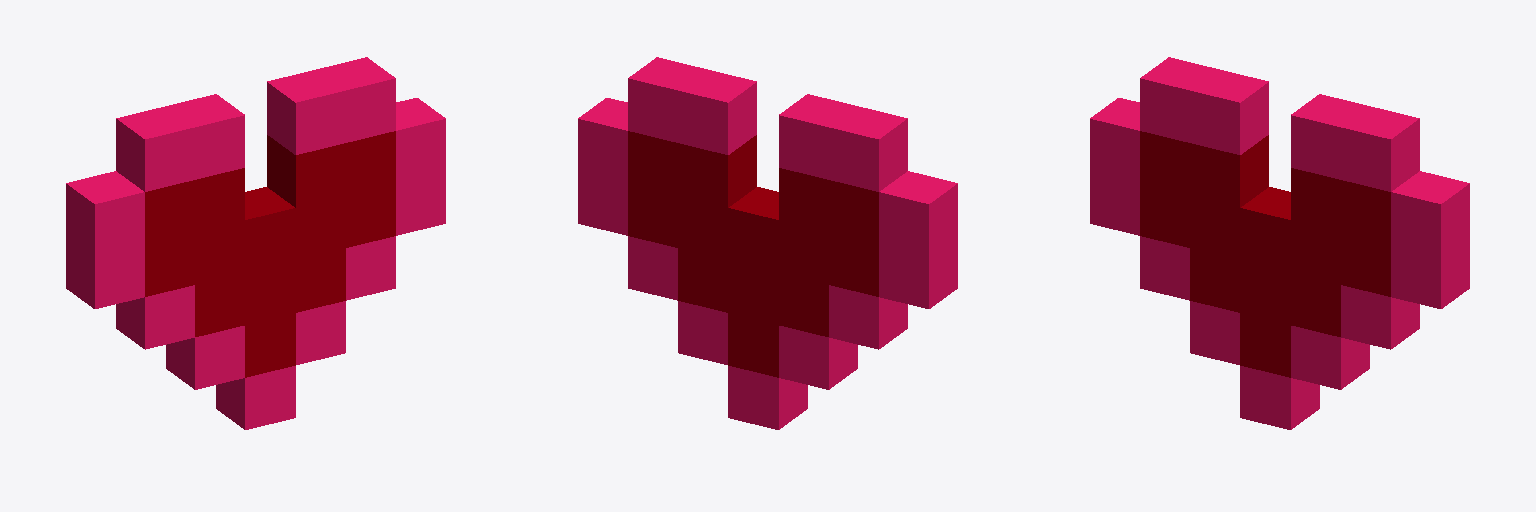
3 renders of one model, left to right at view 1: azimuth 30°, elevation 25°; view 2: azimuth 150°, elevation 25°; view 3: azimuth 330°, elevation 25°, orthographic.
Parts seen in each view (by area): view 1: Matrix; view 2: Matrix; view 3: Matrix.
Boxes of the visible parts, x1,y1,x2,y2 form: Matrix: [66, 57, 445, 429]; Matrix: [578, 57, 957, 429]; Matrix: [1090, 57, 1469, 429].
Bounding box in the file's own units: 7 × 6 × 1.
1 materials, 1 textured.